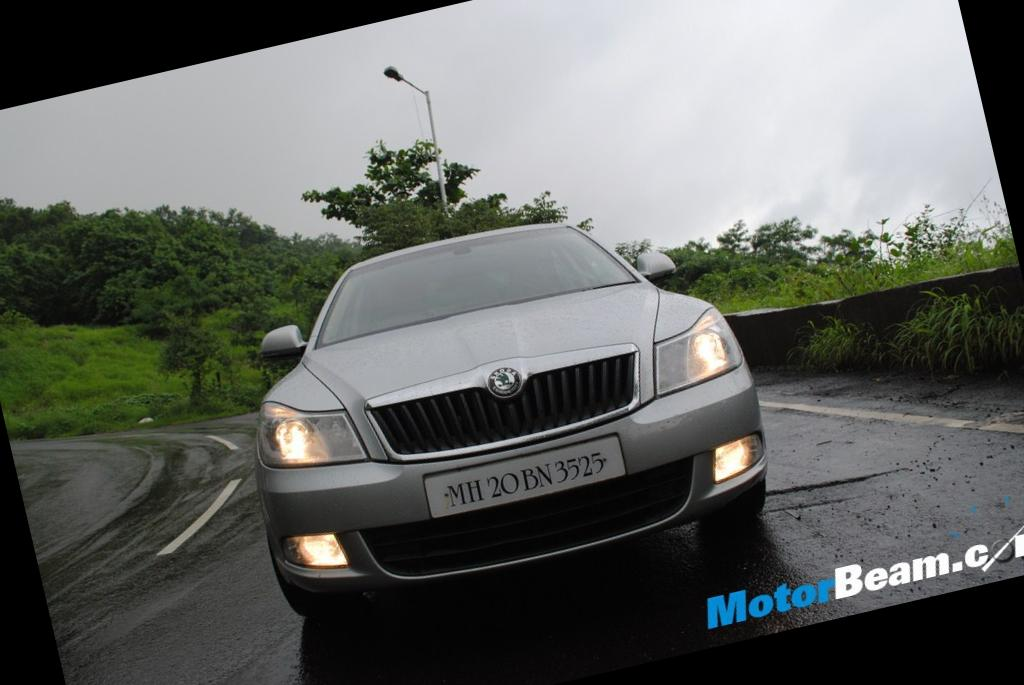plate: (416, 427, 635, 532)
